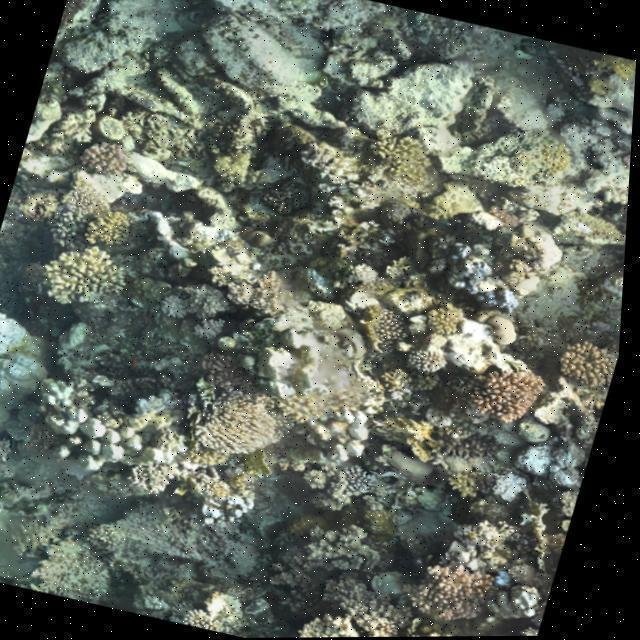Bleached Coral: (19, 382, 147, 485), (482, 433, 596, 523), (427, 304, 520, 388), (295, 392, 388, 476), (0, 298, 60, 391)
Healthy Coral: (192, 351, 287, 478), (397, 547, 495, 630), (39, 239, 145, 309), (360, 135, 456, 196), (566, 330, 628, 401), (479, 371, 550, 422), (86, 130, 138, 180)
